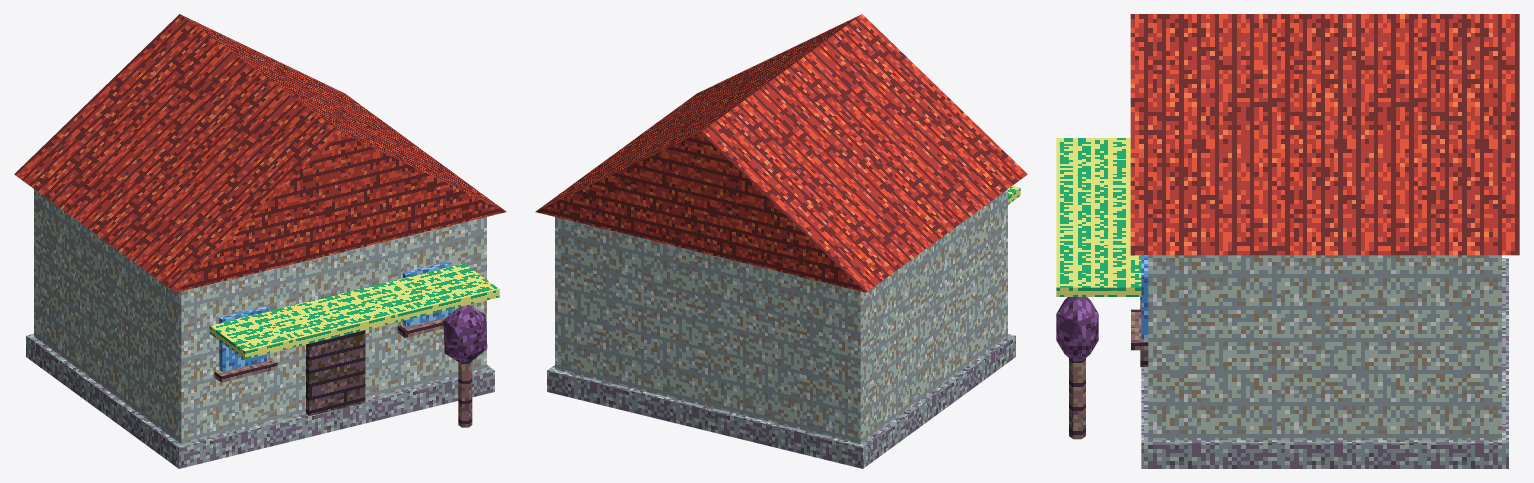
File: costura_elva.glb
The picture shows the model from 3 angles, left to right: view 1: azimuth 30°, elevation 25°; view 2: azimuth 150°, elevation 25°; view 3: azimuth 270°, elevation 25°; orthographic projection. The views are drawn at different scales.
Parts seen in each view (by area): view 1: costura_elva; view 2: costura_elva; view 3: costura_elva.
Part boxes in pixels (bbox=[...]): costura_elva: bbox=[14, 14, 506, 468]; costura_elva: bbox=[535, 14, 1027, 468]; costura_elva: bbox=[1056, 14, 1519, 468].
Bounding box in the file's own units: 6.5 × 5.65 × 6.55.
8 materials, 8 textured.
